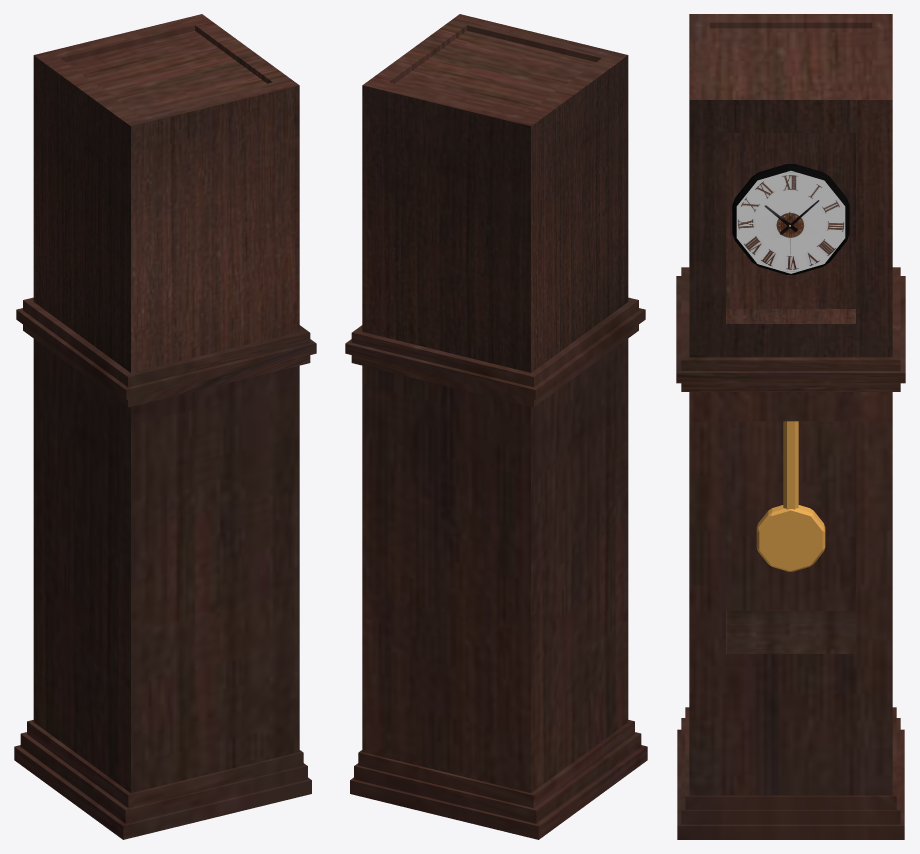
Rendered from HorlogeMedieval.fbx.
3 views of the same model, side by side, from view 1: azimuth 30°, elevation 25°; view 2: azimuth 150°, elevation 25°; view 3: azimuth 270°, elevation 25° (orthographic). The views are drawn at different scales.
Visible parts, largest first — view 1: HorlogeMedievale; view 2: HorlogeMedievale; view 3: HorlogeMedievale.
Boxes of the visible parts, x1,y1,x2,y2 form: HorlogeMedievale: (14, 14, 316, 839); HorlogeMedievale: (345, 14, 647, 839); HorlogeMedievale: (676, 14, 905, 839).
Bounding box in the file's own units: 57.25 × 200 × 56.5.
